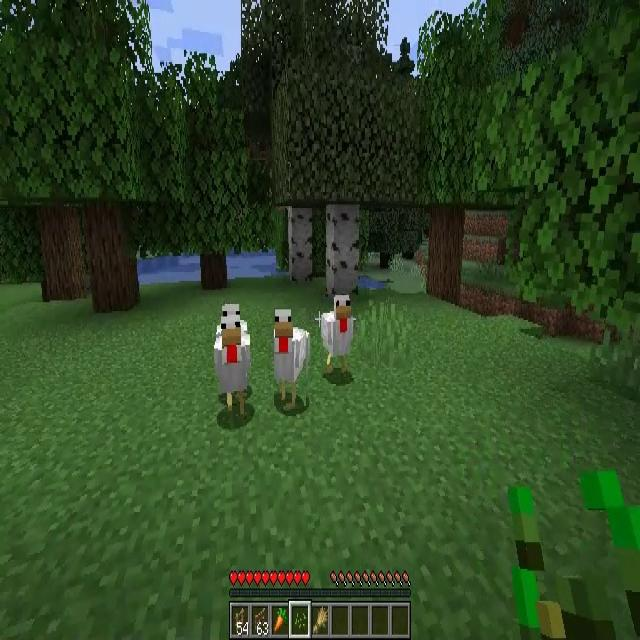duck: (216, 319, 251, 414), (274, 308, 306, 406), (216, 303, 250, 392), (321, 294, 356, 378)
